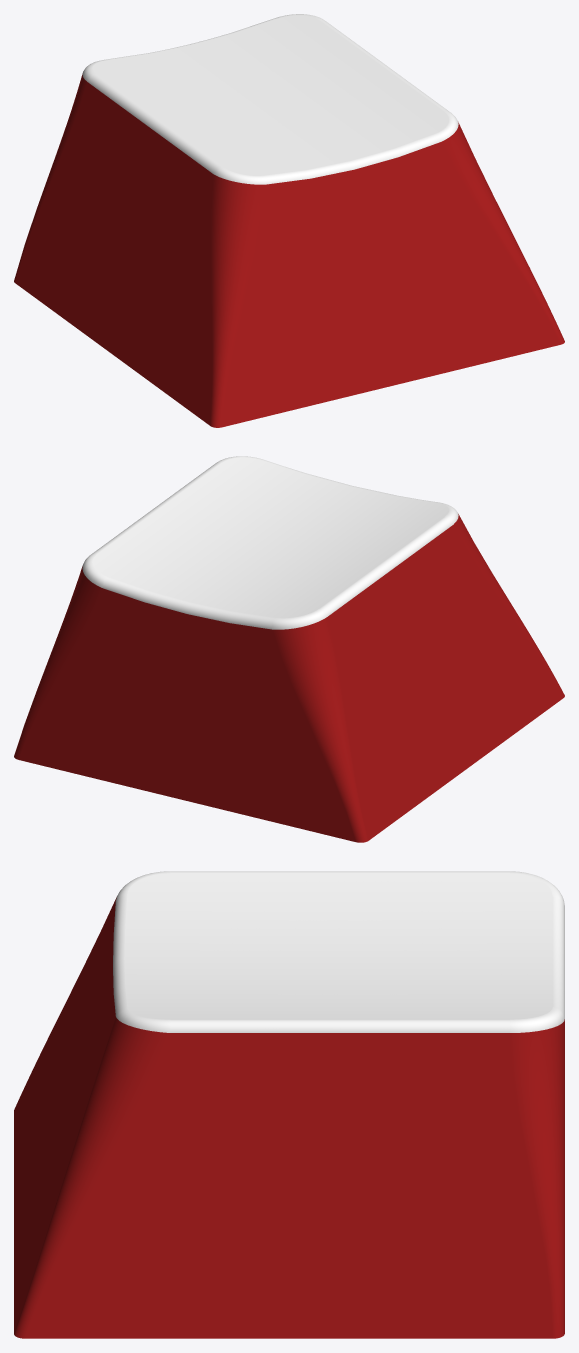
File: Num Lock Mono.fbx
3 views of the same model, one above another, from view 1: azimuth 30°, elevation 25°; view 2: azimuth 150°, elevation 25°; view 3: azimuth 270°, elevation 25° (orthographic). The views are drawn at different scales.
Parts seen in each view (by area): view 1: Body1; view 2: Body1; view 3: Body1.
Boxes of the visible parts, left/top/right/bottom form: Body1: left=14, top=14, right=564, bottom=427; Body1: left=14, top=456, right=564, bottom=842; Body1: left=14, top=871, right=564, bottom=1338.
Bounding box in the file's own units: 18 × 9.95 × 18.
